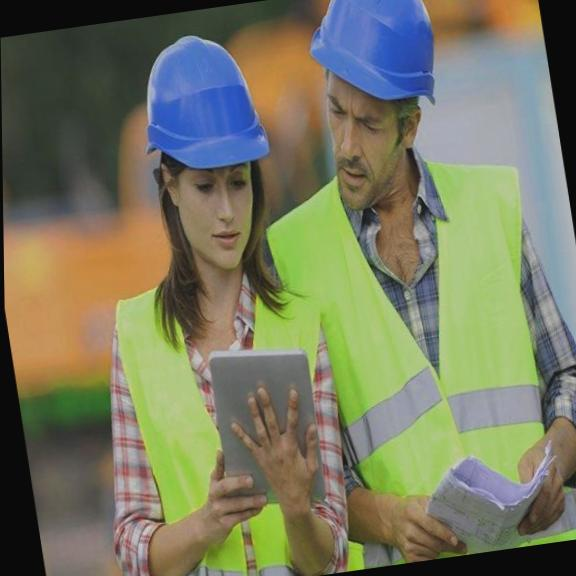safety_vest: (288, 152, 576, 571), (105, 250, 360, 572)
